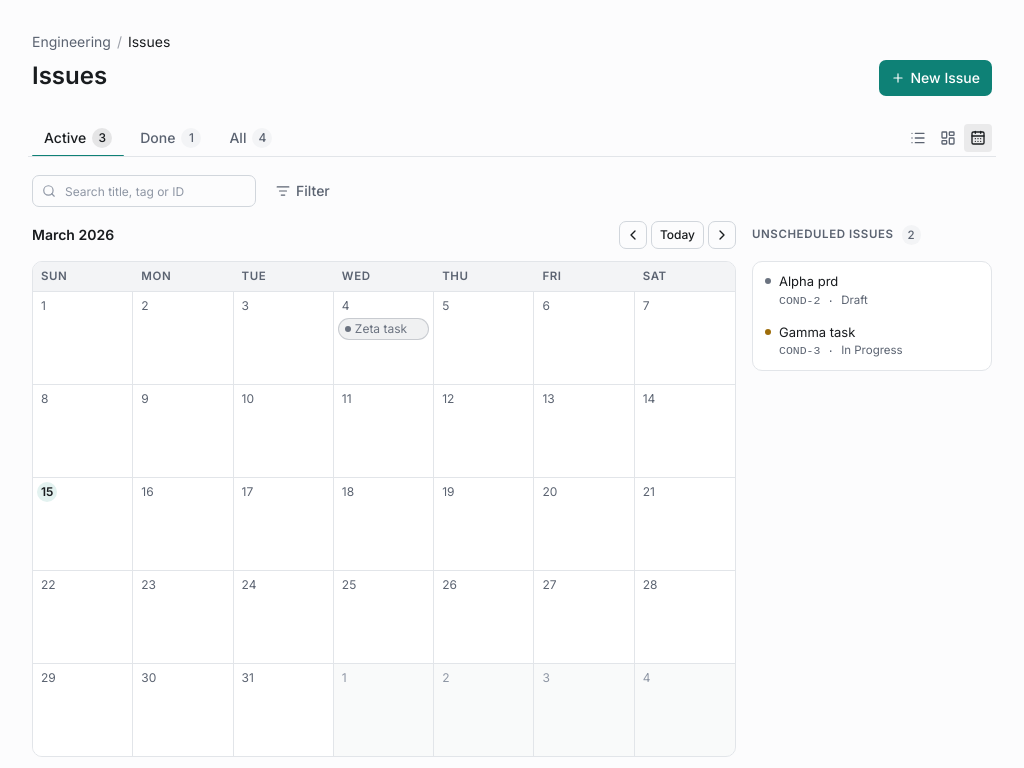
Scenario: display mode › switches back to list and persists the choice
Expected: the text "Zeta task" is shown, x1=355 y1=321 x2=407 y2=337
Expected: the element with test id "work-item-calendar-grid" is shown, x1=32 y1=261 x2=736 y2=757
Click the button titled "List view".
click(918, 138)  # box x1=904 y1=124 x2=932 y2=152
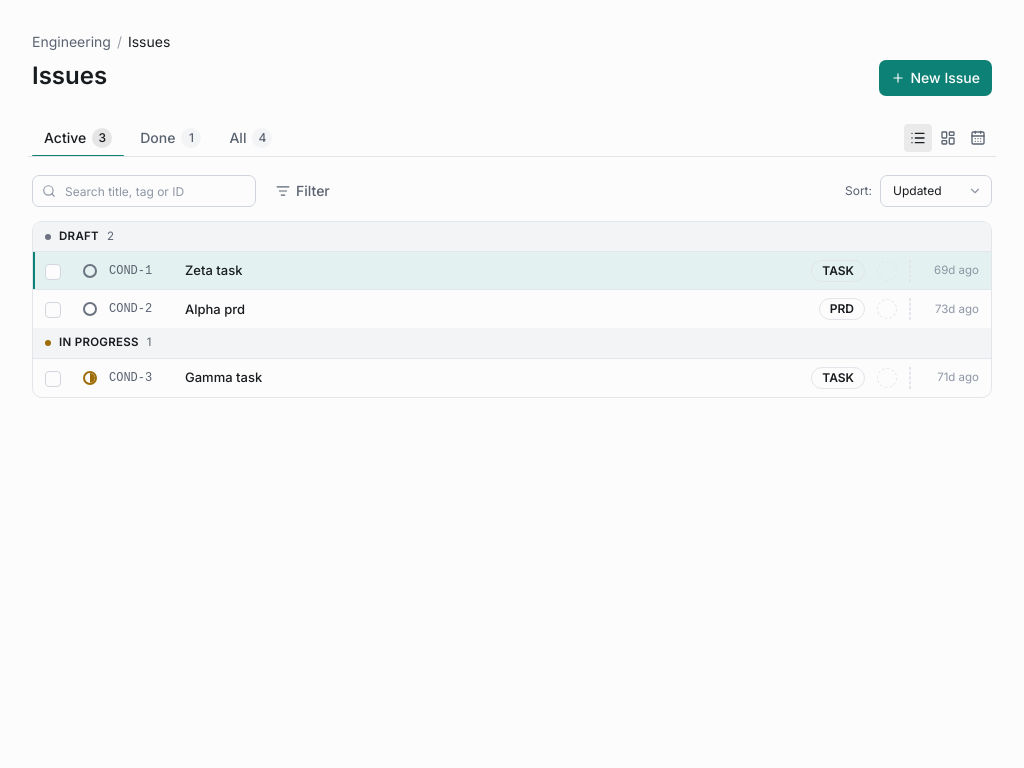
Now the element with test id "work-item-list" is shown, box x1=32 y1=221 x2=992 y2=398
Now the element with test id "work-item-calendar-grid" is gone
